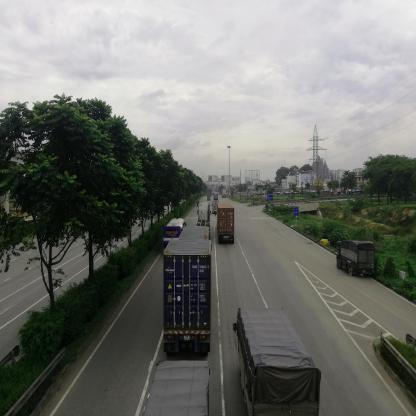bus: (165, 218, 184, 249)
container: (165, 241, 213, 353), (217, 205, 237, 246), (198, 203, 212, 225)
truck: (237, 309, 323, 416), (149, 362, 211, 416), (338, 242, 375, 277)
